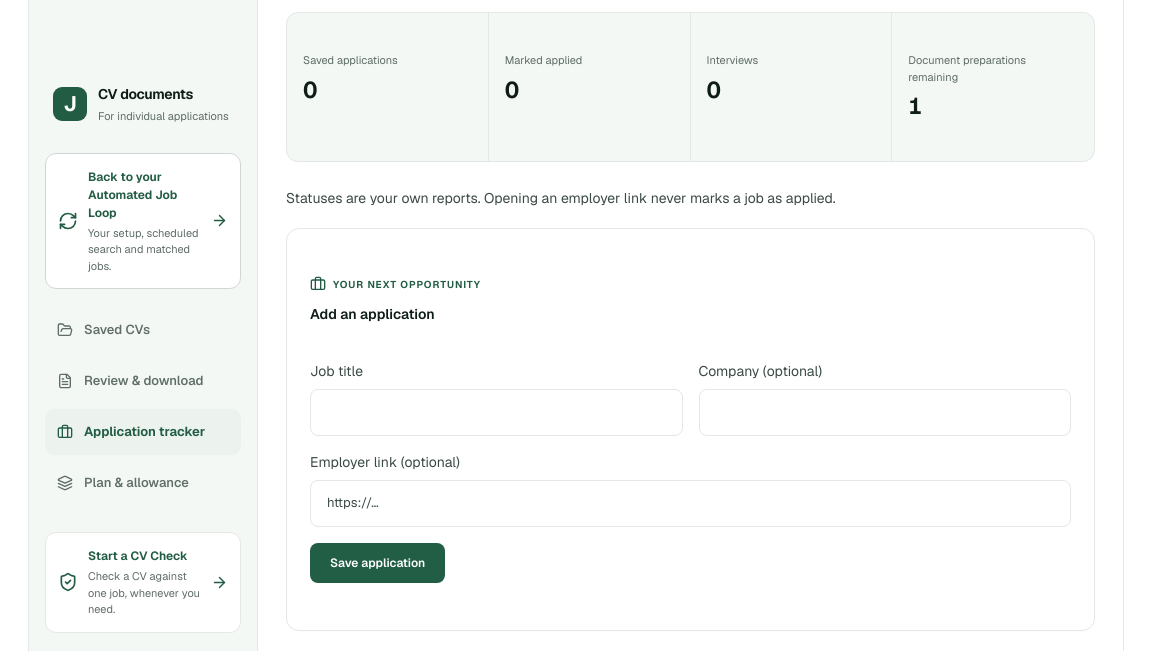
Test: Real workspace journey and truthful failures › shows an honest zero state and persists a manually reported application status
(page scrolled)
Type "FP&A Analyst" into the field labelled "Job title" at coordinates (496, 413), box x1=310 y1=389 x2=682 y2=436
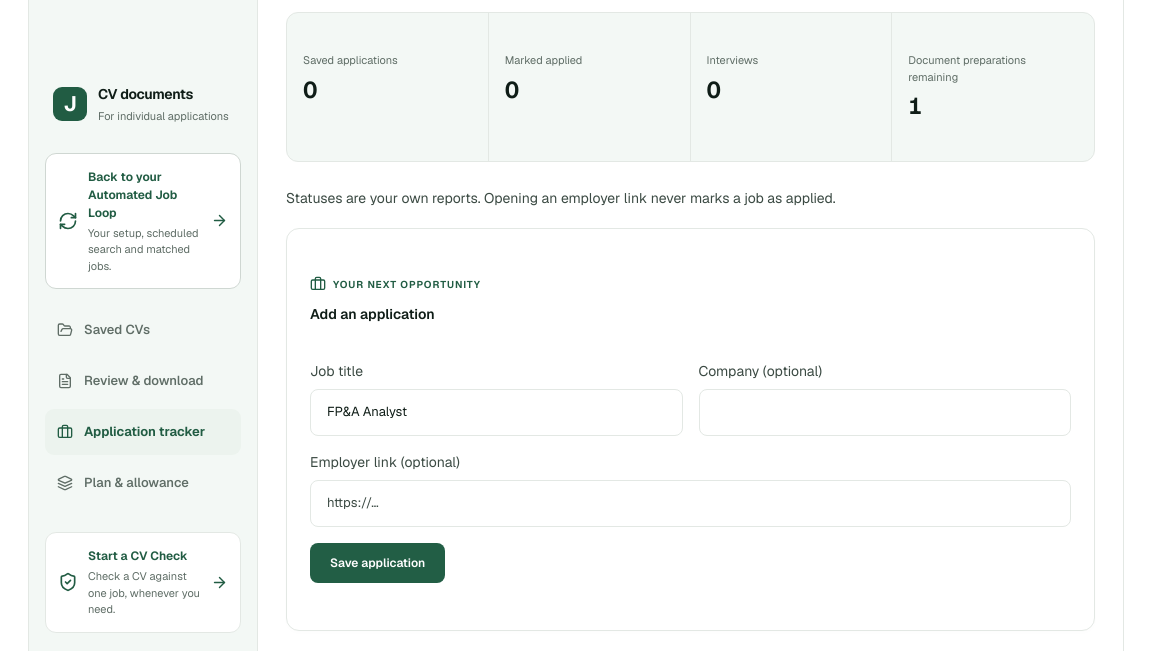
Click the button "Save application" at coordinates (378, 563), box x1=310 y1=543 x2=445 y2=583
(page scrolled)
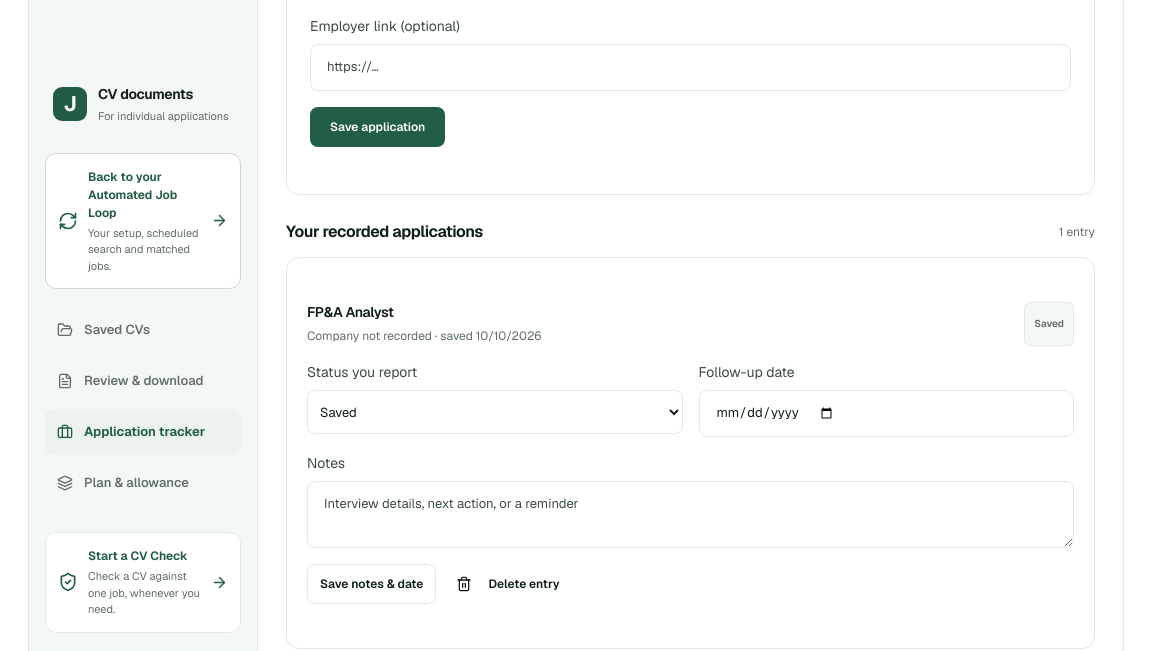
Select "Applied" in the dropdown named "Status for FP&A Analyst" at coordinates (495, 412), box x1=307 y1=390 x2=682 y2=434
(page scrolled)
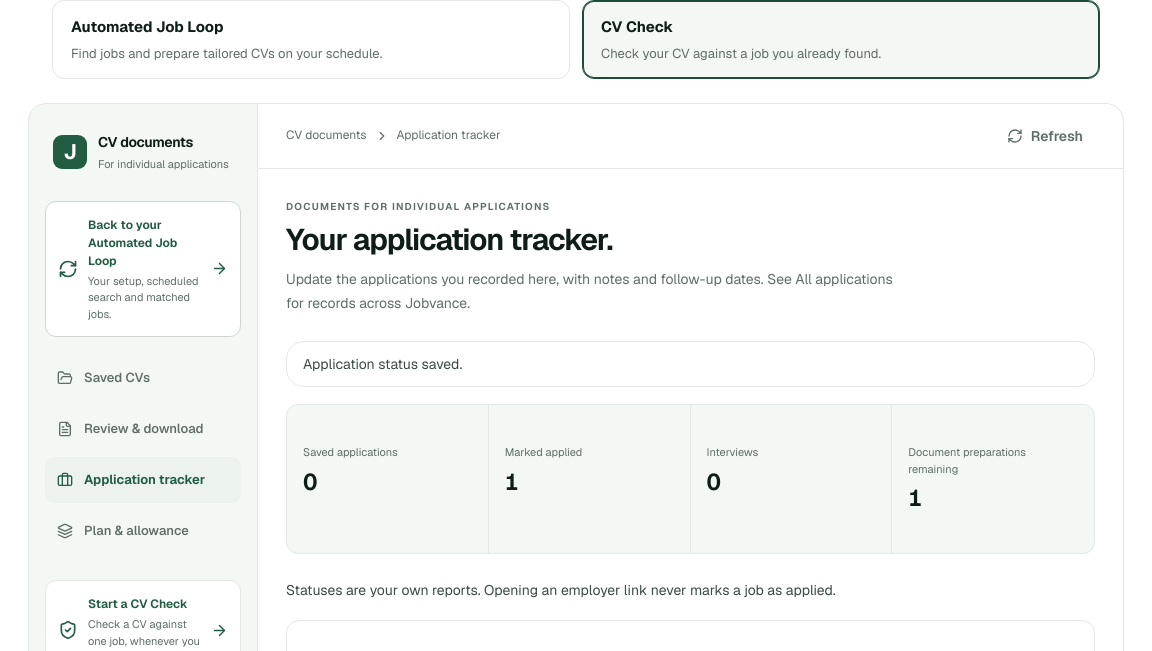
expect the text "Application status saved." is shown: met, box x1=303 y1=355 x2=462 y2=373
